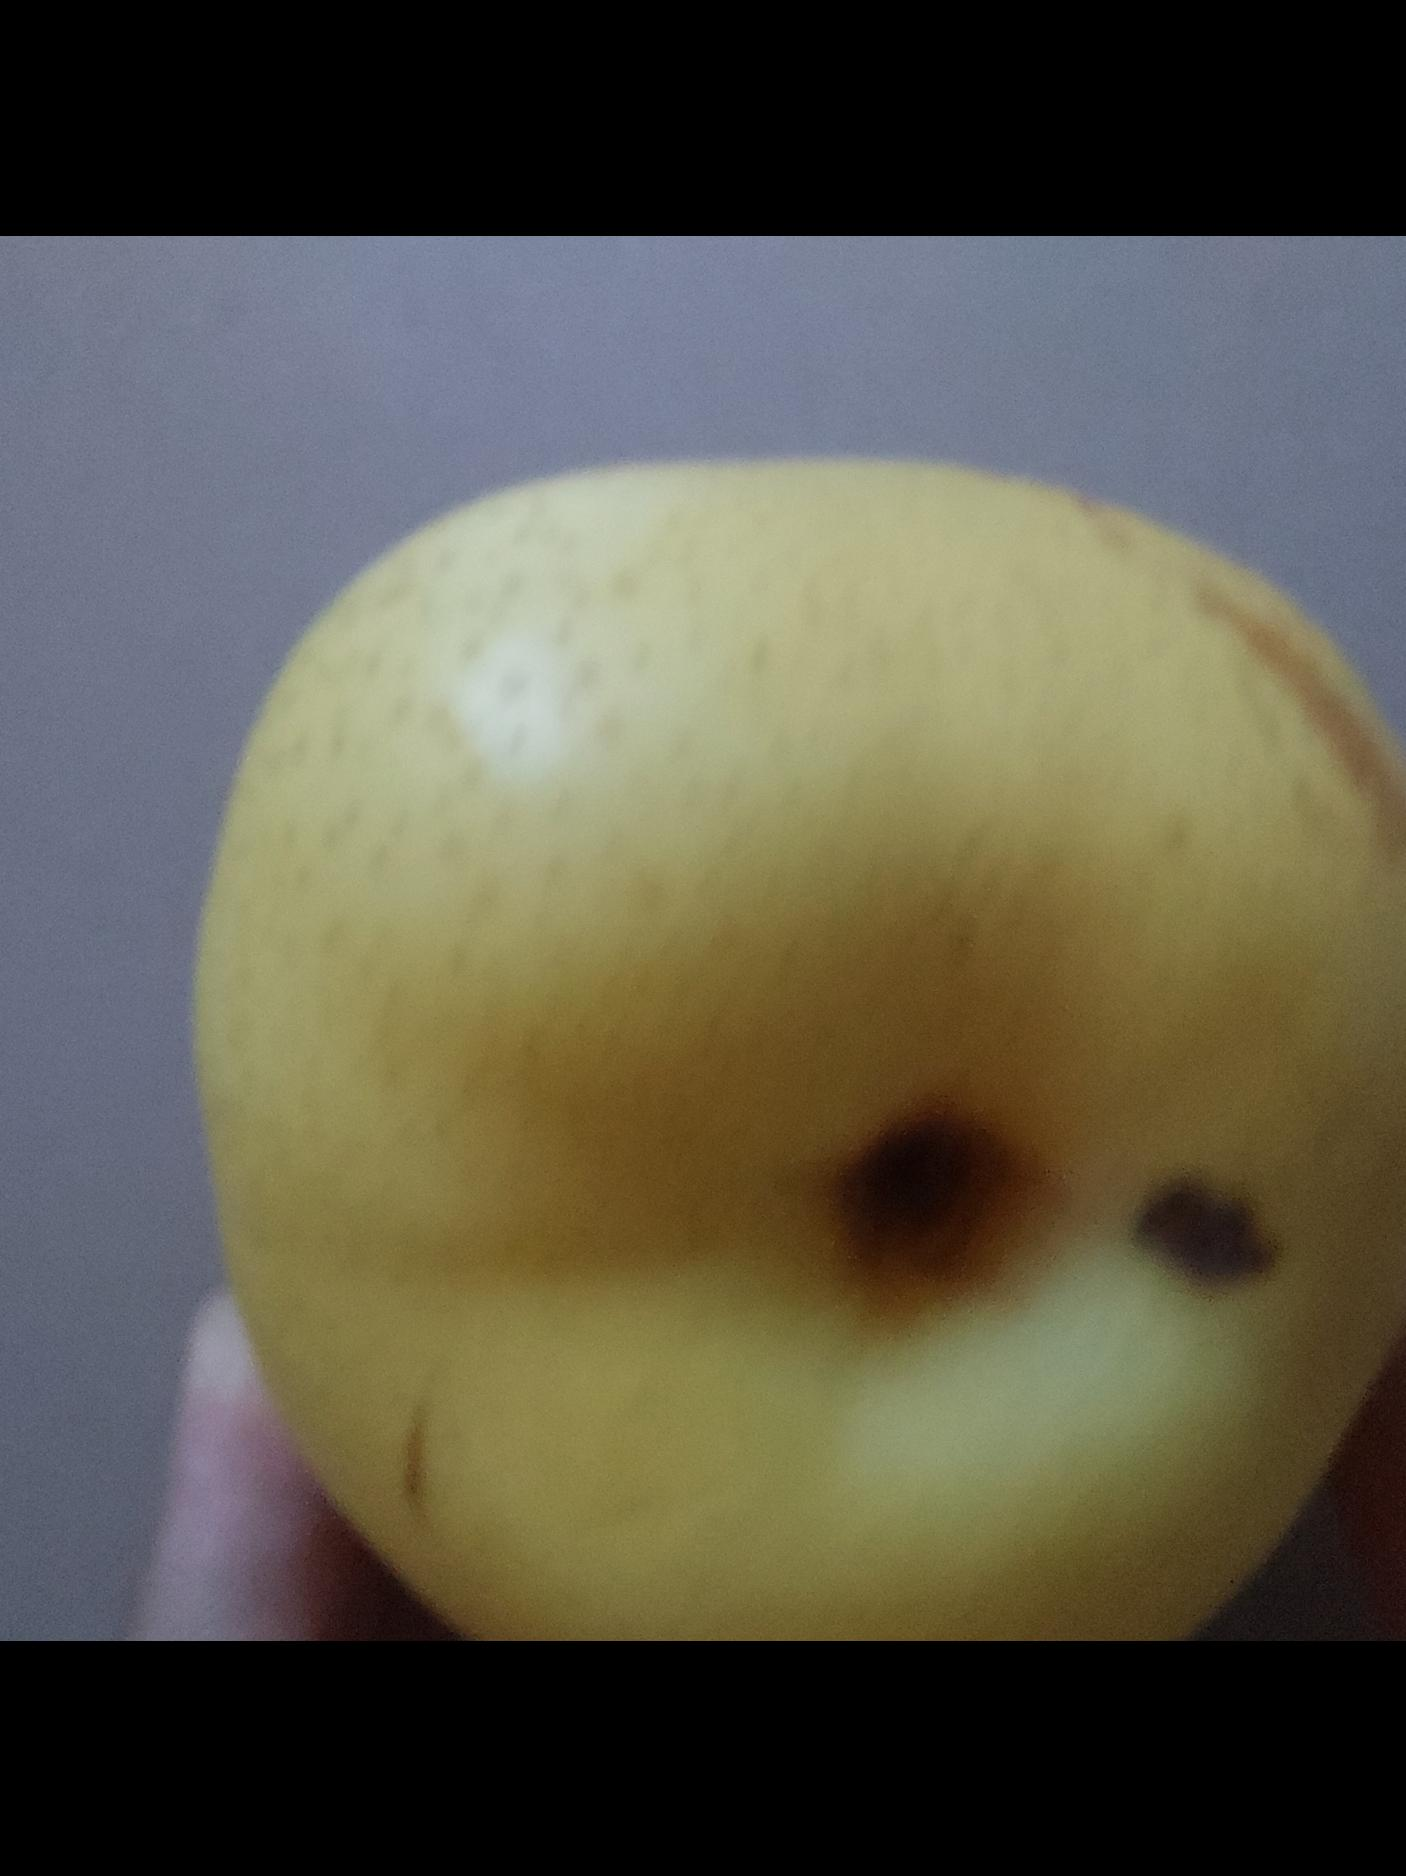Good Pear: (193, 455, 1406, 1641)
